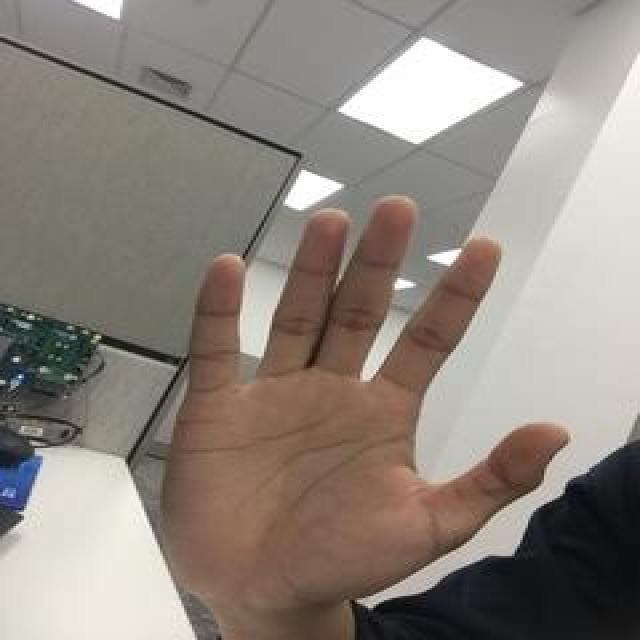no-gloves: (152, 194, 568, 608)
